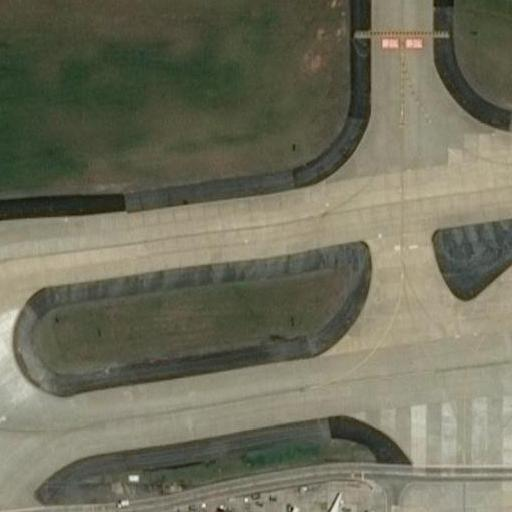Aircraft: (277, 488, 377, 512)
